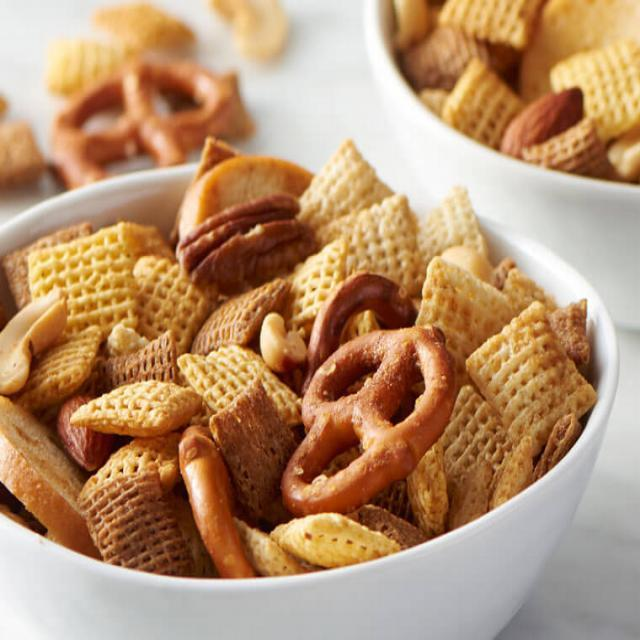Salatini: (26, 179, 574, 569)
